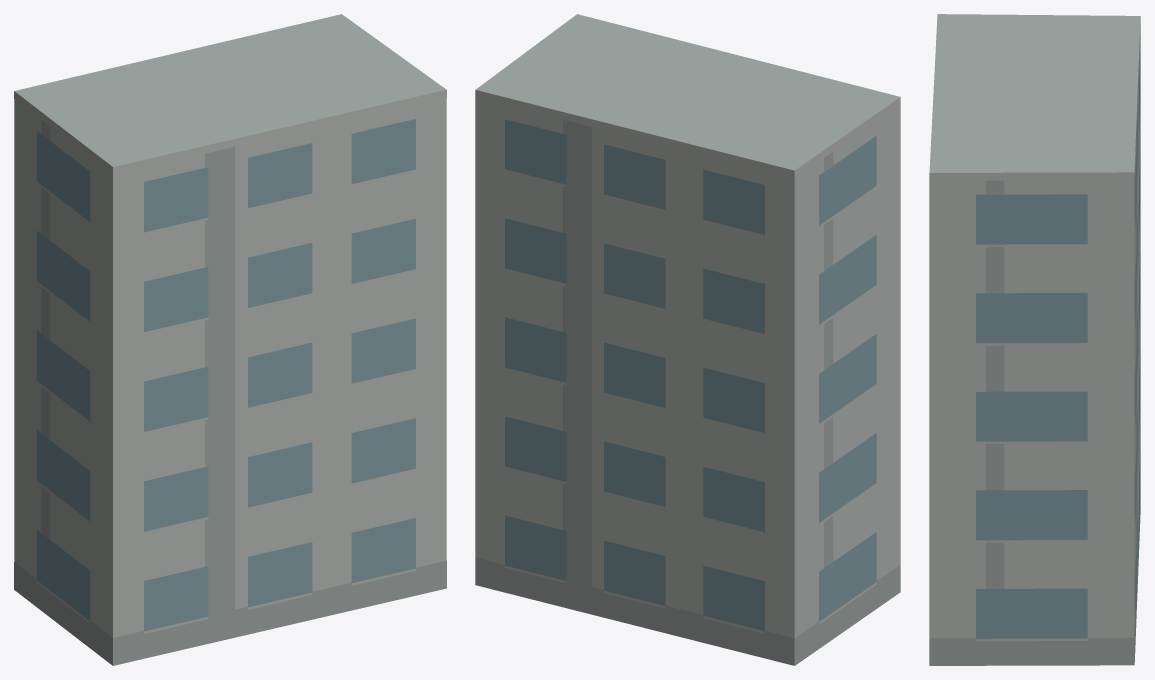
The model's file is survey-upis-32728789.glb.
3 views of the same model, side by side, from view 1: azimuth 30°, elevation 25°; view 2: azimuth 150°, elevation 25°; view 3: azimuth 270°, elevation 25° (orthographic).
Visible parts, largest first — view 1: survey-upis-32728789.tmp; view 2: survey-upis-32728789.tmp; view 3: survey-upis-32728789.tmp.
Part boxes in pixels (x1,y1,x2,y2): survey-upis-32728789.tmp: (14, 14, 446, 665); survey-upis-32728789.tmp: (475, 14, 900, 665); survey-upis-32728789.tmp: (929, 14, 1140, 665).
Bounding box in the file's own units: 10.59 × 15.3 × 5.95.
